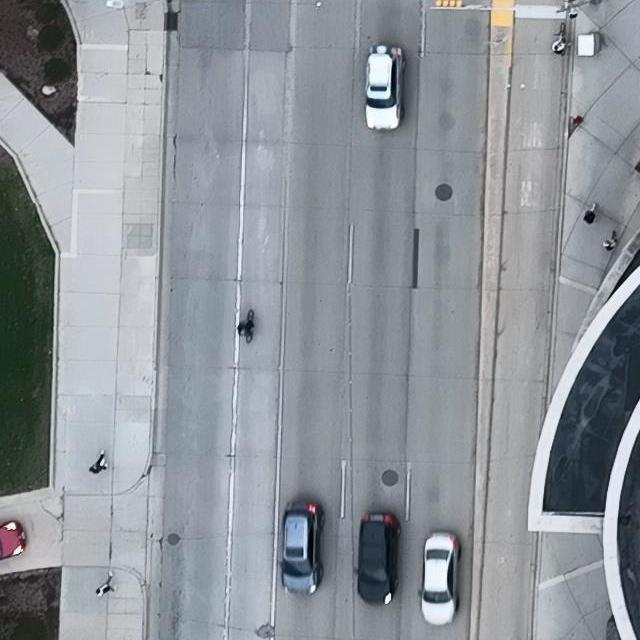car: (353, 511, 402, 607), (278, 499, 326, 596), (418, 531, 459, 625), (364, 44, 406, 130)
